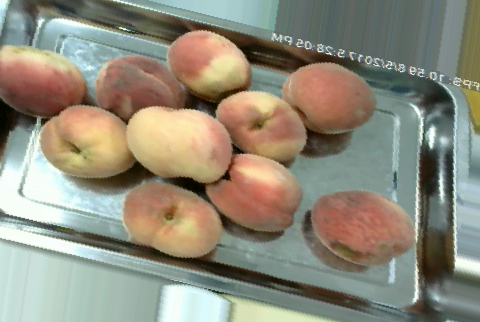Peach: (309, 189, 416, 267), (121, 178, 223, 258), (36, 103, 135, 179), (128, 107, 228, 180), (210, 155, 299, 232), (217, 89, 307, 163), (283, 63, 375, 133), (166, 28, 253, 101), (90, 53, 184, 115)
